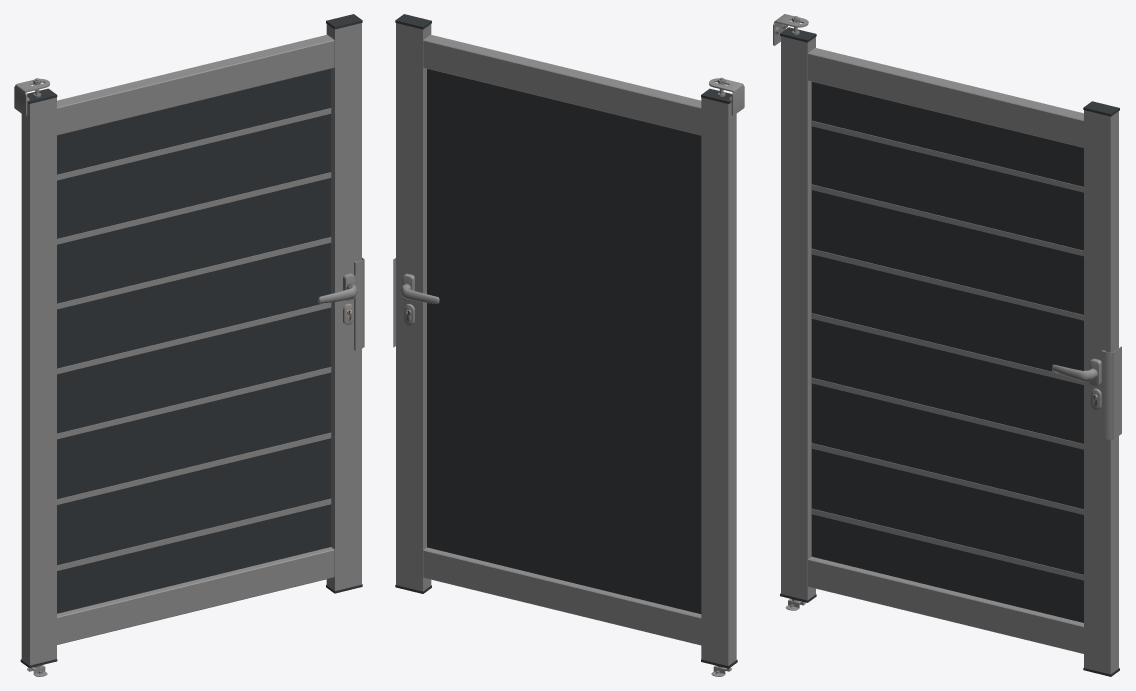
3 renders of one model, left to right at view 1: azimuth 30°, elevation 25°; view 2: azimuth 150°, elevation 25°; view 3: azimuth 330°, elevation 25°, orthographic.
Visible parts, largest first — view 1: Chapa Alucobond018, Shape107412643, Shape107412638, Line009, Shape107412564, Shape107412565, Shape107412637, Rectangle057; view 2: Chapa Alucobond018, Shape107412643, Shape107412638, Shape107412564, Shape107412565, Rectangle057; view 3: Chapa Alucobond018, Shape107412638, Shape107412643, Line009, Shape107412564, Shape107412565, Shape107412637.
Boxes of the visible parts, x1,y1,x2,y2 form: Chapa Alucobond018: (57,69,330,613); Shape107412643: (21,97,56,665); Shape107412638: (326,23,361,590); Line009: (57,108,331,570); Shape107412564: (57,34,334,135); Shape107412565: (57,547,334,644); Shape107412637: (354,257,364,350); Rectangle057: (14,78,49,116); Chapa Alucobond018: (427,69,701,613); Shape107412643: (701,97,736,665); Shape107412638: (396,23,431,591); Shape107412564: (423,35,701,135); Shape107412565: (423,547,701,645); Rectangle057: (709,78,744,115); Chapa Alucobond018: (811,81,1083,622); Shape107412638: (1084,110,1118,674); Shape107412643: (781,36,815,600); Line009: (811,120,1083,580); Shape107412564: (808,48,1083,147); Shape107412565: (808,556,1083,653); Shape107412637: (1101,346,1121,439).
Bounding box in the file's own units: 1015 × 1688 × 152.
Materials: 7 (4 with a texture image).
